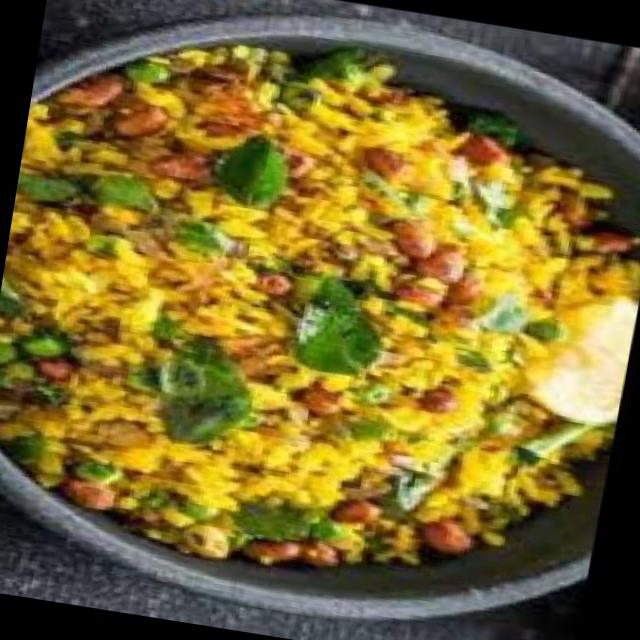poha: (0, 0, 640, 618)
